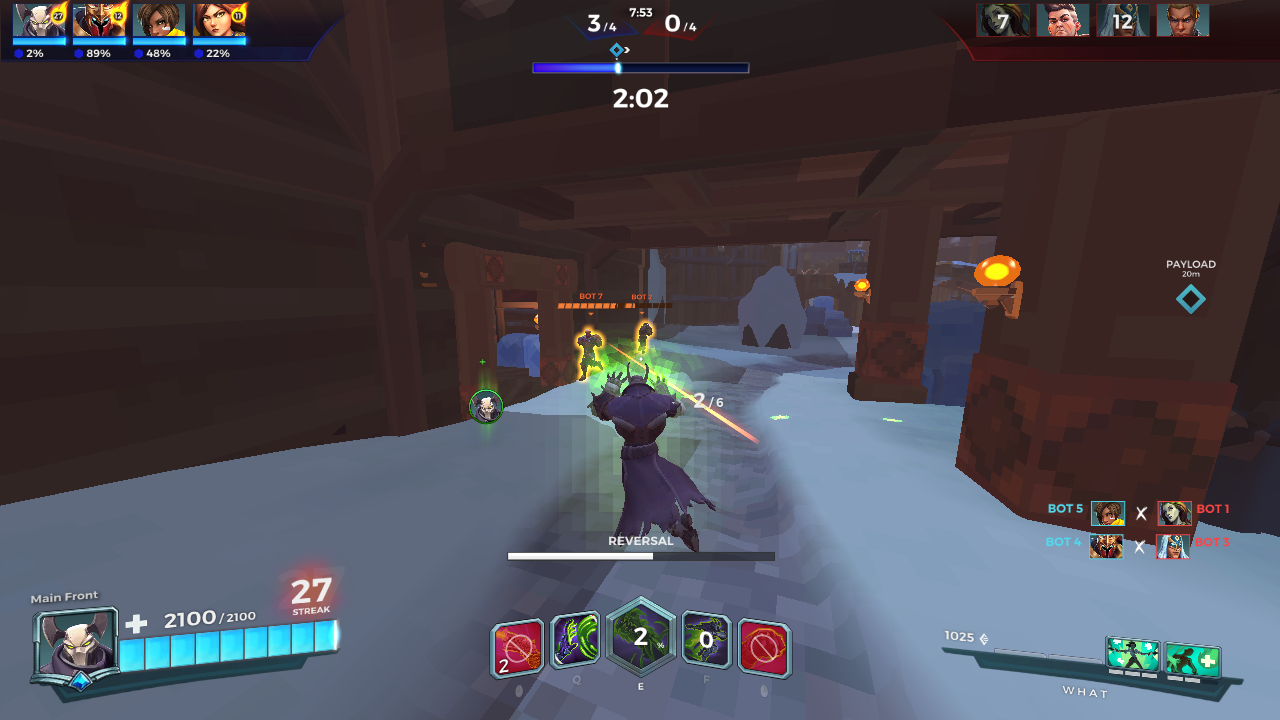model: (578, 319, 603, 372), (635, 322, 656, 349)
